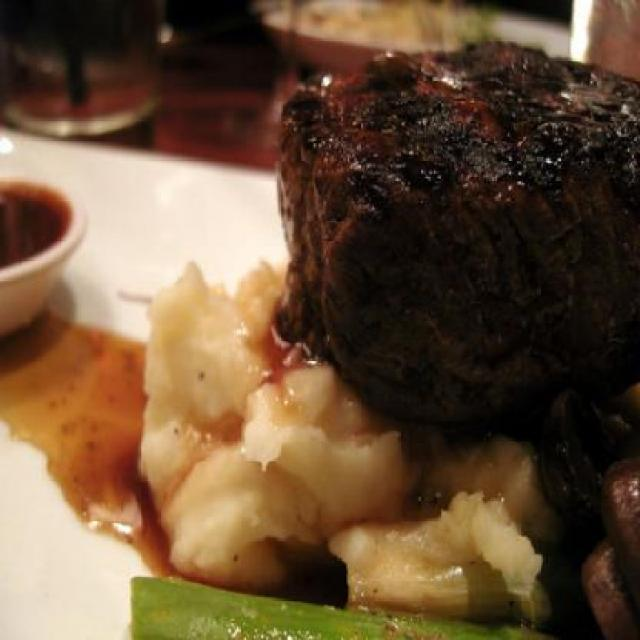Steak: (263, 30, 639, 470)
